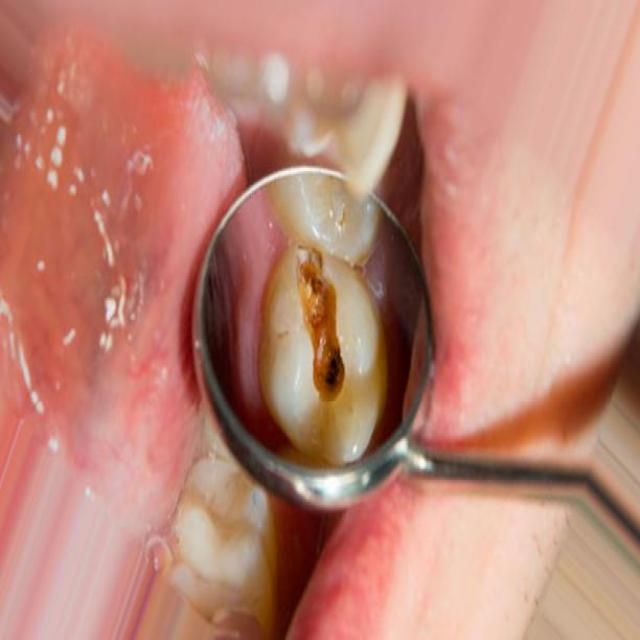caries: (281, 229, 377, 435)
